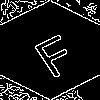F: (25, 25, 83, 80)
